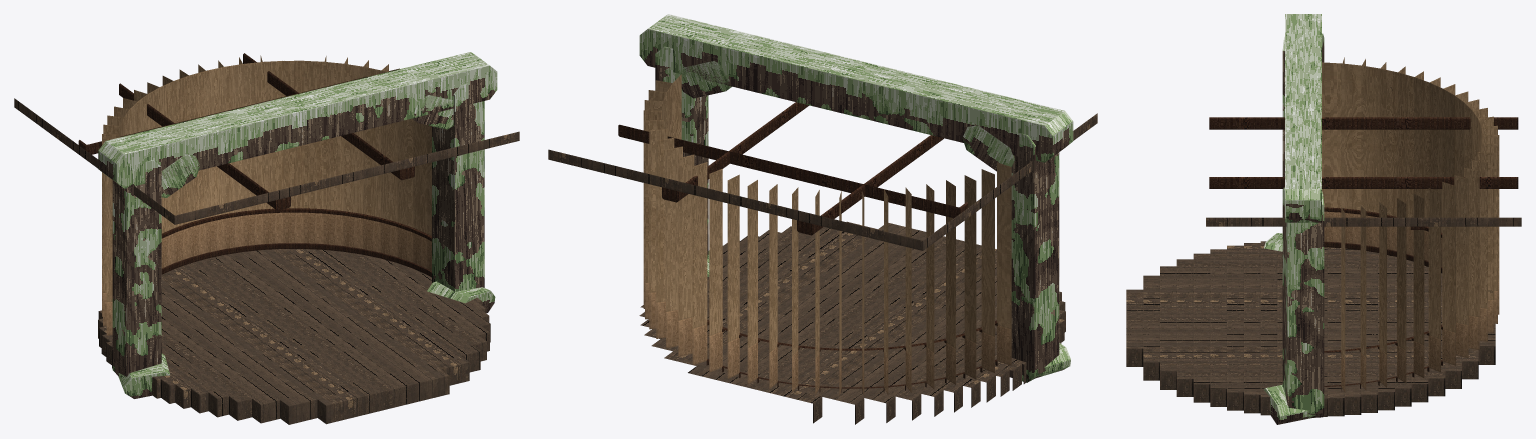
Rendered from room.glb.
3 renders of one model, left to right at view 1: azimuth 30°, elevation 25°; view 2: azimuth 150°, elevation 25°; view 3: azimuth 270°, elevation 25°, orthographic. The views are drawn at different scales.
Visible parts, largest first — view 1: lintel, post, post_1, ceiling, floor_21, floor_14, floor_15, floor_16, floor_17, floor_13, floor_18, floor_19 (+51 smaller); view 2: lintel, post, ceiling, tie, wall_16, wall, post_1, wall_17, wall_1, wall_15, floor_9, floor_8 (+43 smaller); view 3: post_1, lintel, beam, beam_1, floor_14, floor_15, floor_13, ceiling, floor_17, floor_16, floor_8, floor_9 (+46 smaller).
Boxes of the visible parts, x1,y1,x2,y2 form: lintel: (98,52,497,188); post: (112,160,161,376); post_1: (432,83,484,291); ceiling: (14,98,519,224); floor_21: (317,369,449,424); floor_14: (161,302,486,403); floor_15: (175,309,489,408); floor_16: (191,317,490,413); floor_17: (208,326,489,417); floor_13: (152,297,481,398); floor_18: (229,335,486,420); floor_19: (252,345,480,423); lintel: (639,14,1073,162); post: (1009,133,1059,382); ceiling: (548,113,1097,250); tie: (618,124,968,218); wall_16: (692,162,707,328); wall: (997,162,1011,329); post_1: (655,46,708,258); wall_17: (678,154,694,320); wall_1: (981,169,994,336); wall_15: (709,168,722,336); floor_9: (707,287,1021,390); floor_8: (707,296,1009,396); post_1: (1282,187,1324,418); lintel: (1285,14,1321,222); beam: (1209,117,1518,129); beam_1: (1209,177,1518,188); floor_14: (1244,243,1260,413); floor_15: (1227,245,1243,410); floor_13: (1260,241,1277,415); ceiling: (1206,217,1521,226); floor_17: (1193,253,1210,402); floor_16: (1210,249,1226,406); floor_8: (1344,248,1361,414); floor_9: (1327,247,1344,416).
Size of the model in its own units: 12.85 by 7.85 by 11.77.
1 material, 1 textured.
